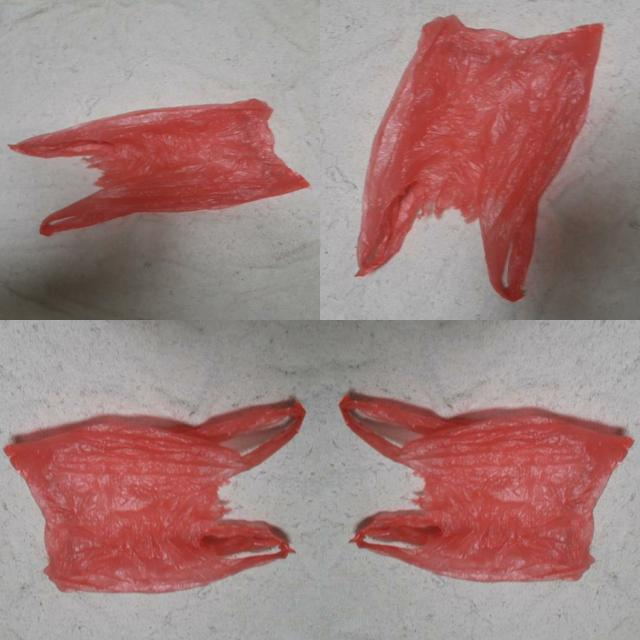Single-layer Plastic: (358, 15, 602, 301), (5, 401, 305, 592), (340, 394, 632, 581), (10, 99, 309, 236)
